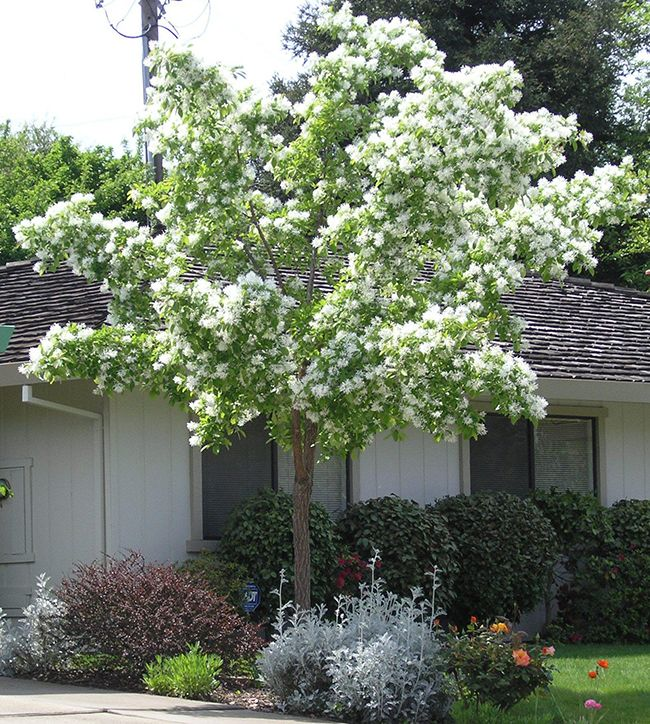tree: (10, 1, 649, 615)
